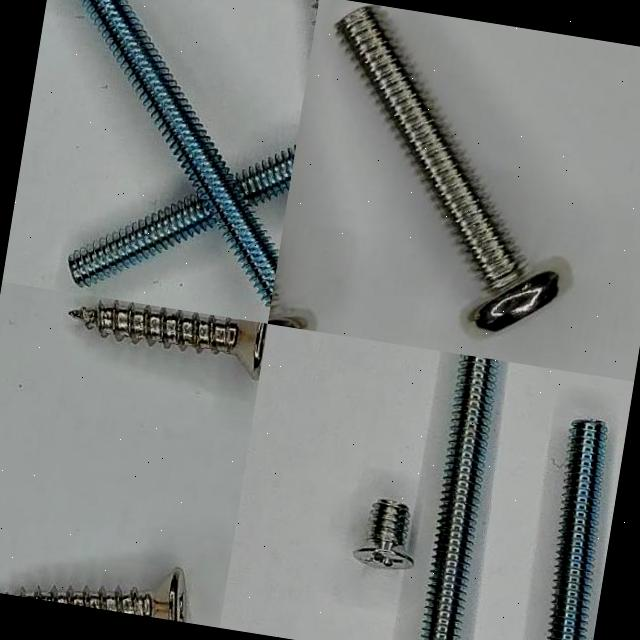Screw: (336, 6, 558, 331), (81, 0, 279, 307), (420, 354, 497, 640), (68, 300, 268, 379), (67, 195, 214, 287), (548, 419, 607, 640), (15, 568, 188, 623), (352, 498, 412, 570), (235, 145, 296, 206)
